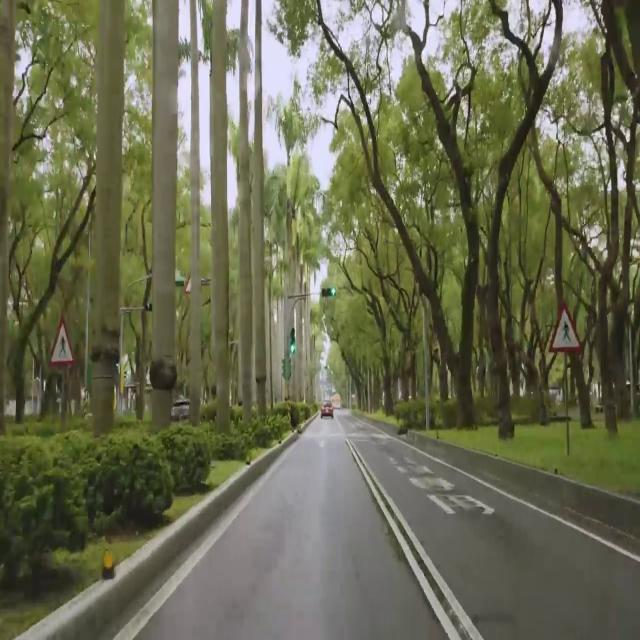green light: (322, 287, 336, 296)
